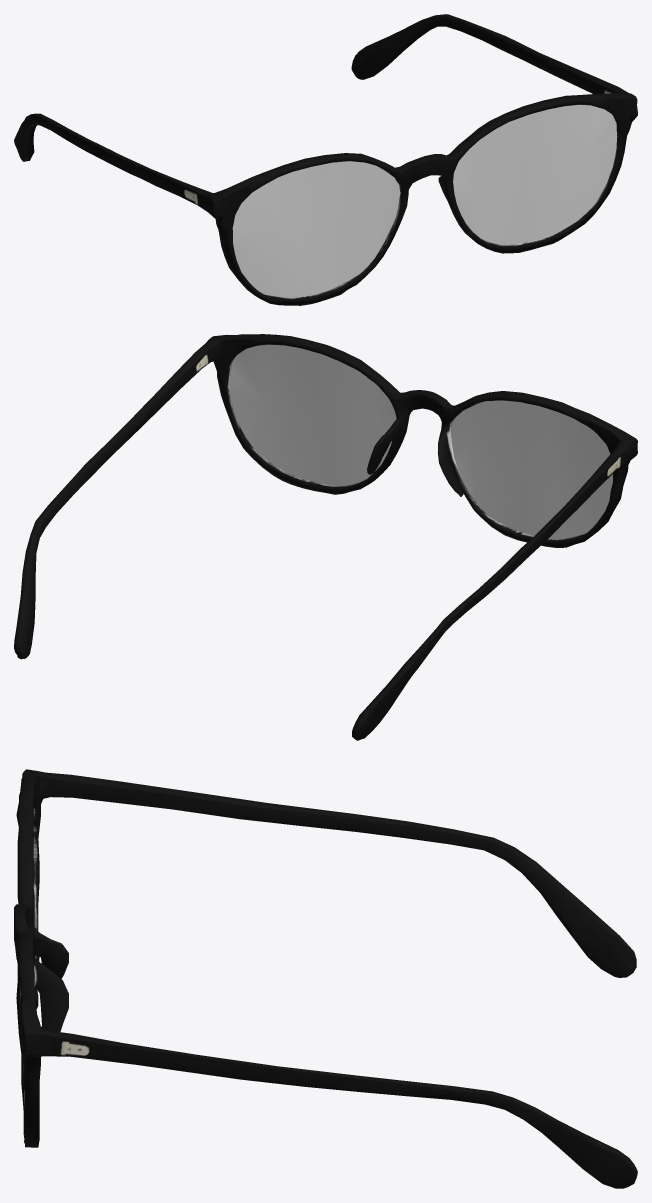
The model's file is frame-009-black-round.glb.
3 renders of one model, top to bottom at view 1: azimuth 30°, elevation 25°; view 2: azimuth 150°, elevation 25°; view 3: azimuth 270°, elevation 25°, orthographic. The views are drawn at different scales.
Parts seen in each view (by area): view 1: lenses, frame_front, temple_right, temple_left; view 2: lenses, frame_front, temple_right, temple_left; view 3: temple_left, temple_right, frame_front.
Part boxes in pixels (x1=…): lenses: x1=232, y1=105, x2=617, y2=297; frame_front: x1=205, y1=93, x2=637, y2=305; temple_right: x1=351, y1=14, x2=628, y2=93; temple_left: x1=14, y1=113, x2=211, y2=211; lenses: x1=229, y1=345, x2=612, y2=538; frame_front: x1=206, y1=334, x2=637, y2=547; temple_right: x1=14, y1=341, x2=213, y2=659; temple_left: x1=352, y1=443, x2=630, y2=740; temple_left: x1=44, y1=772, x2=636, y2=977; temple_right: x1=43, y1=1030, x2=637, y2=1188; frame_front: x1=14, y1=769, x2=68, y2=1147.
Size of the model in its own units: 1 by 0.3574 by 0.998.
2 materials, 1 textured.
